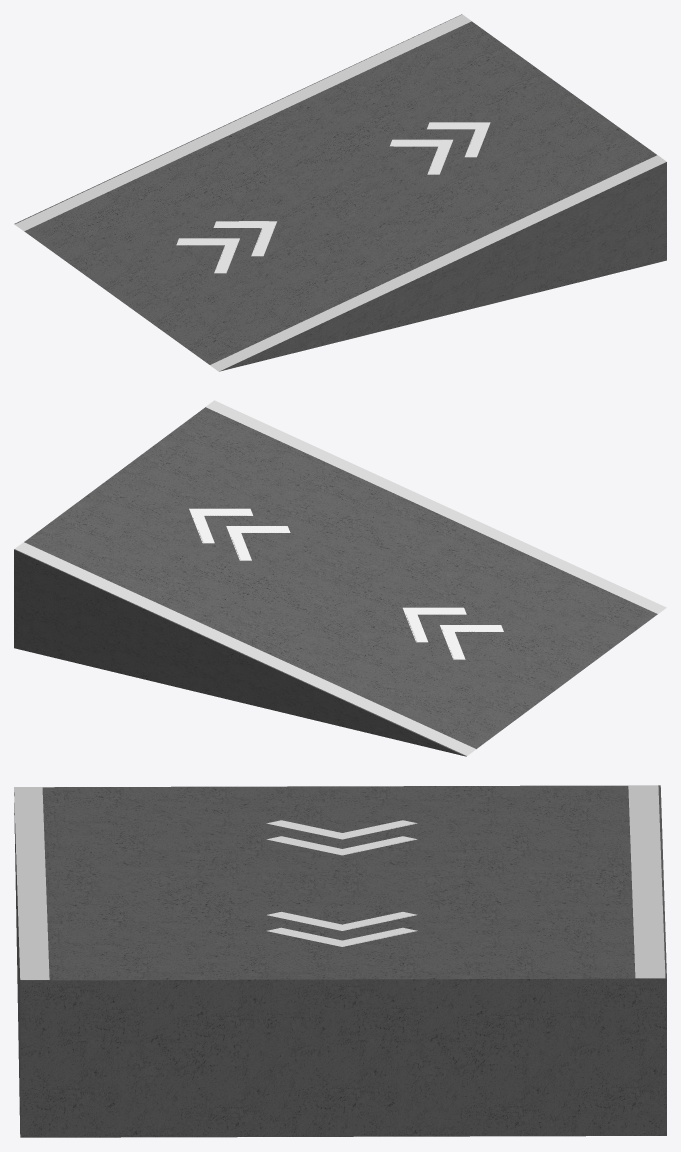
The model's file is Ramp 5.fbx.
3 renders of one model, top to bottom at view 1: azimuth 30°, elevation 25°; view 2: azimuth 150°, elevation 25°; view 3: azimuth 270°, elevation 25°, orthographic. The views are drawn at different scales.
Visible parts, largest first — view 1: Ramp, Decal, White arrow; view 2: Ramp, Decal, White arrow; view 3: Ramp, Decal, White arrow.
Boxes of the visible parts, left/top/right/bottom form: Ramp: left=14, top=14, right=666, bottom=371; Decal: left=15, top=14, right=666, bottom=371; White arrow: left=176, top=122, right=490, bottom=273; Ramp: left=14, top=407, right=657, bottom=756; Decal: left=15, top=400, right=666, bottom=755; White arrow: left=189, top=508, right=503, bottom=659; Ramp: left=14, top=785, right=666, bottom=1137; Decal: left=14, top=785, right=665, bottom=979; White arrow: left=266, top=820, right=417, bottom=946.
Bounding box in the file's own units: 667 × 139 × 522.
